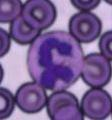N: (26, 30, 85, 90)
